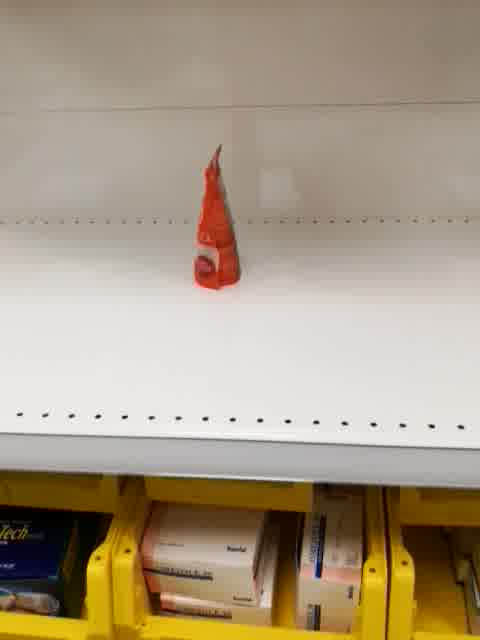whitechia: (191, 142, 242, 293)
